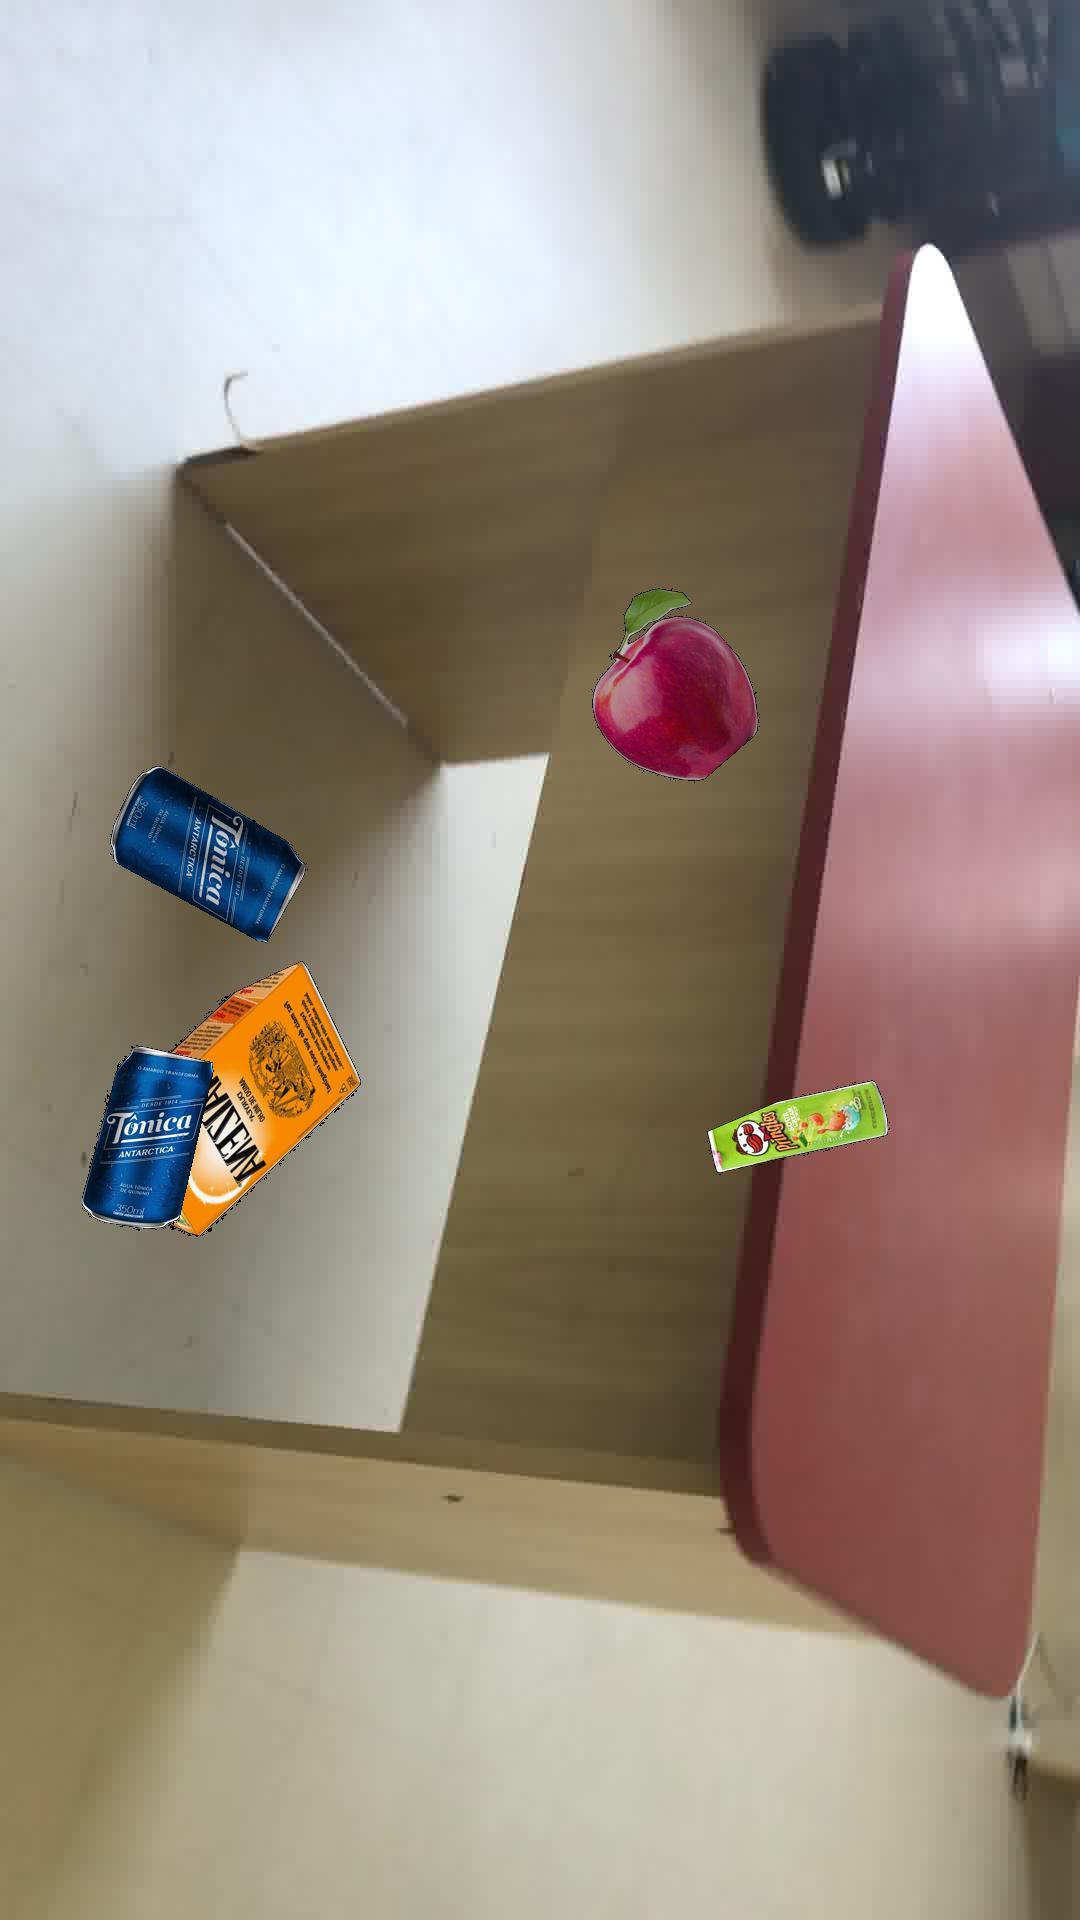apple: (591, 587, 757, 779)
pringles: (705, 1079, 889, 1171)
tonic: (108, 765, 305, 942), (80, 1044, 211, 1228)
